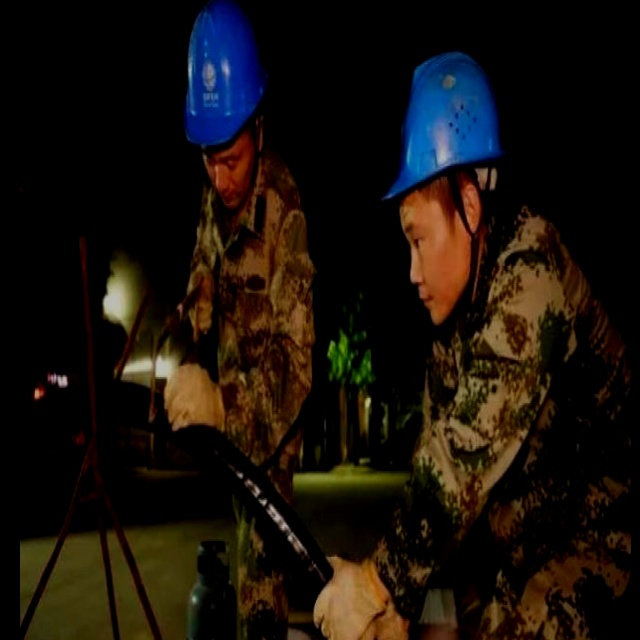Con_Casco: (387, 50, 503, 311), (184, 0, 267, 193)
